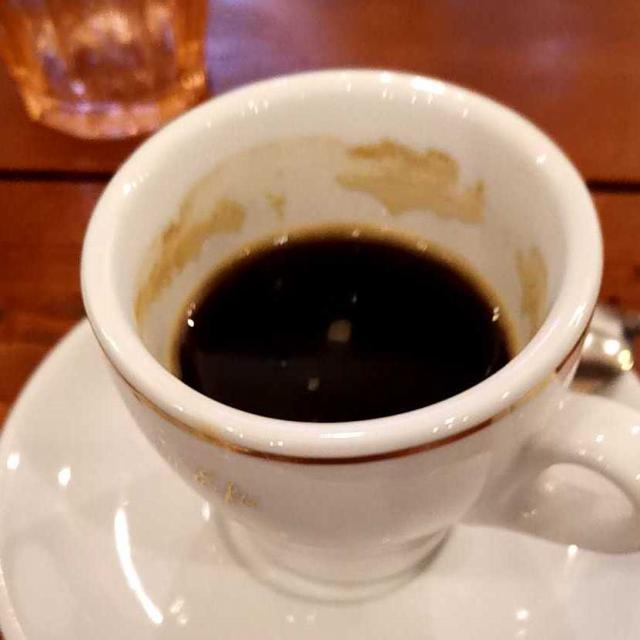coffee: (168, 225, 522, 446)
